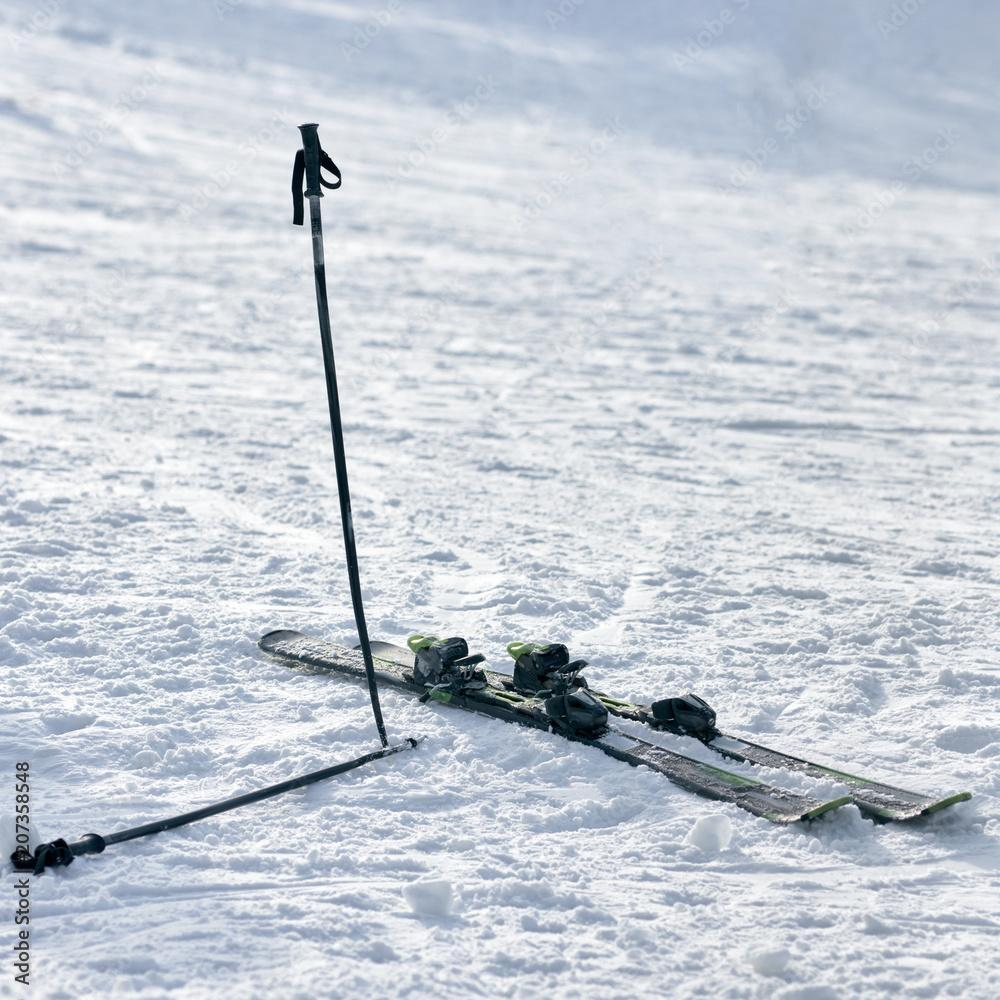Skis: (10, 120, 937, 879)
